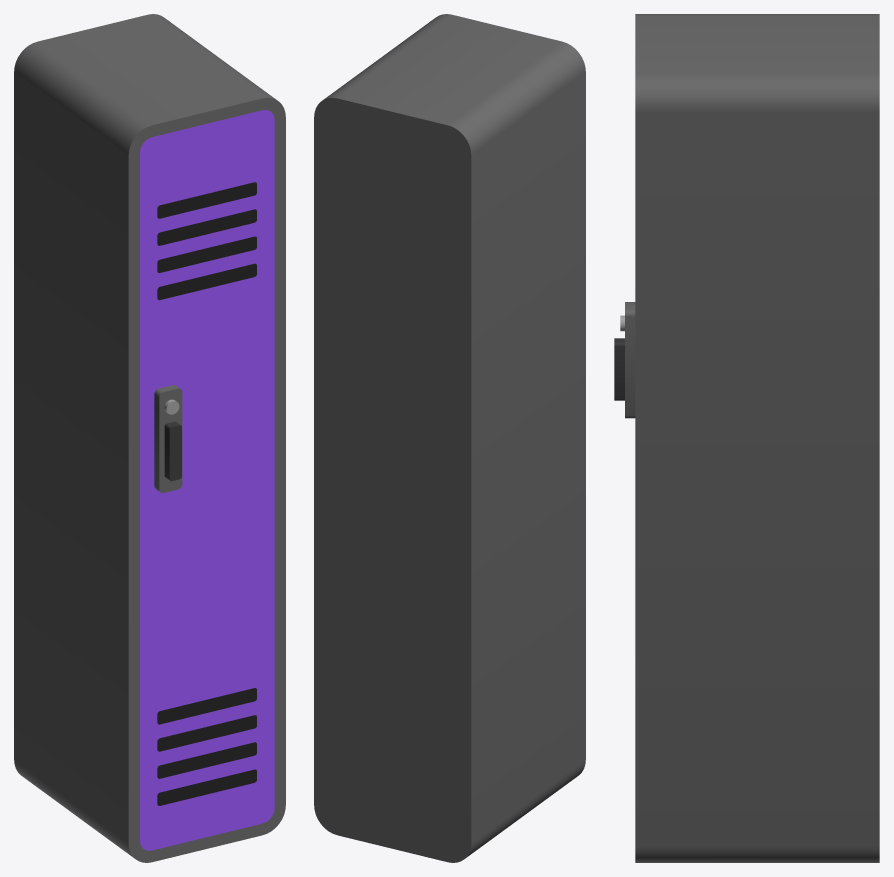
The model's file is Locker Violet.fbx.
3 renders of one model, left to right at view 1: azimuth 30°, elevation 25°; view 2: azimuth 150°, elevation 25°; view 3: azimuth 270°, elevation 25°, orthographic. The views are drawn at different scales.
Parts seen in each view (by area): view 1: Locker Violet, Locker Door Violet; view 2: Locker Violet; view 3: Locker Violet, Locker Door Violet.
Boxes of the visible parts, x1,y1,x2,y2 form: Locker Violet: (14, 14, 285, 862); Locker Door Violet: (140, 110, 274, 850); Locker Violet: (314, 14, 585, 862); Locker Violet: (635, 14, 879, 862); Locker Door Violet: (614, 302, 635, 418).
Bounding box in the file's own units: 57.6 × 258 × 78.94.
